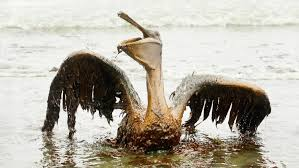pelican: (47, 10, 273, 145)
